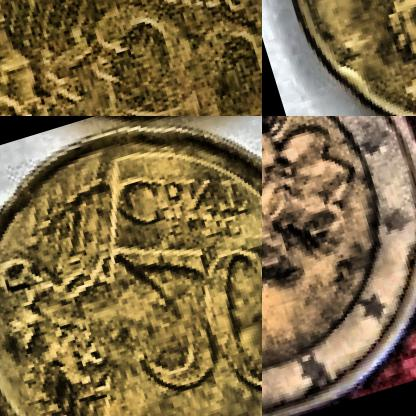coin: (0, 116, 261, 415), (262, 116, 415, 415), (0, 0, 261, 115), (262, 0, 415, 115)
